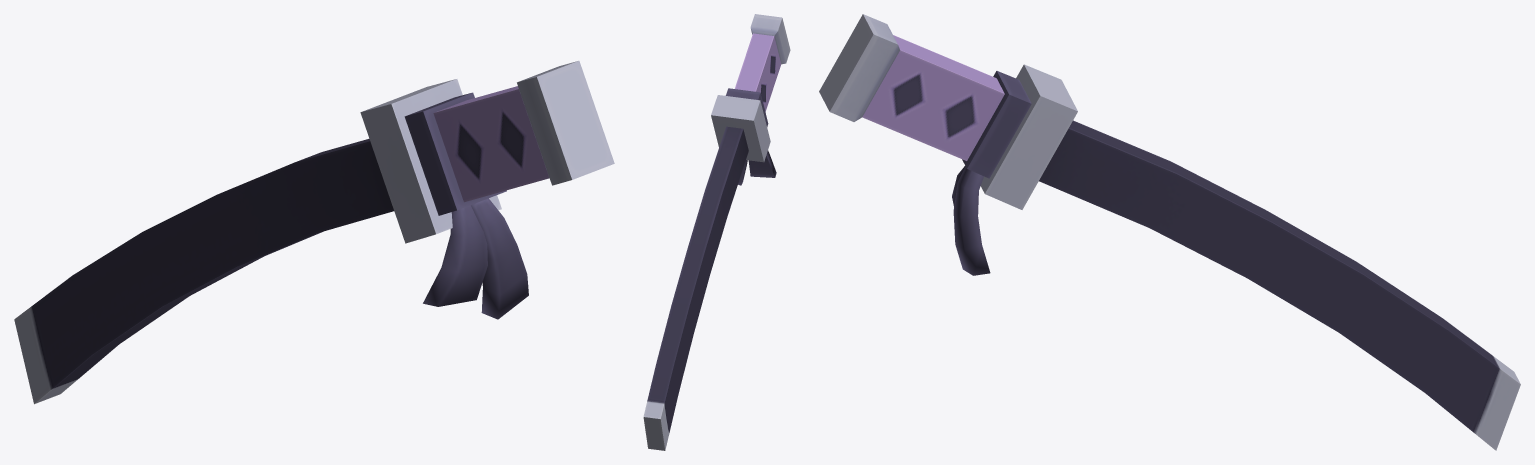
The model's file is SM_pocketBg10.fbx.
The picture shows the model from 3 angles, left to right: view 1: azimuth 30°, elevation 25°; view 2: azimuth 150°, elevation 25°; view 3: azimuth 270°, elevation 25°; orthographic projection. The views are drawn at different scales.
Parts seen in each view (by area): view 1: pocketBg10; view 2: pocketBg10; view 3: pocketBg10.
Boxes of the visible parts, x1,y1,x2,y2 form: pocketBg10: [14, 61, 614, 404]; pocketBg10: [643, 14, 790, 450]; pocketBg10: [819, 14, 1520, 450].
Bounding box in the file's own units: 16.71 × 45.52 × 60.33.
